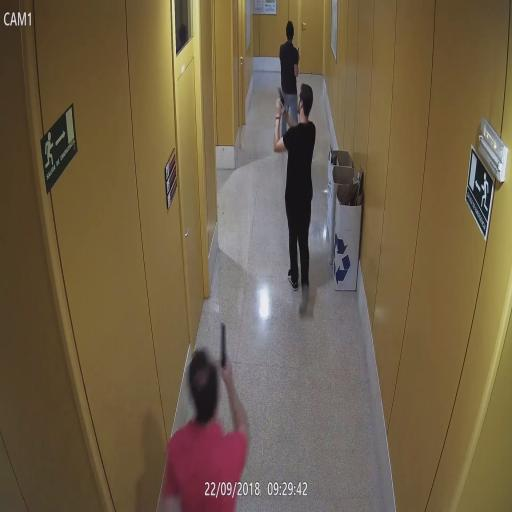Handgun: (218, 318, 233, 383), (274, 84, 286, 117), (296, 43, 300, 54)
